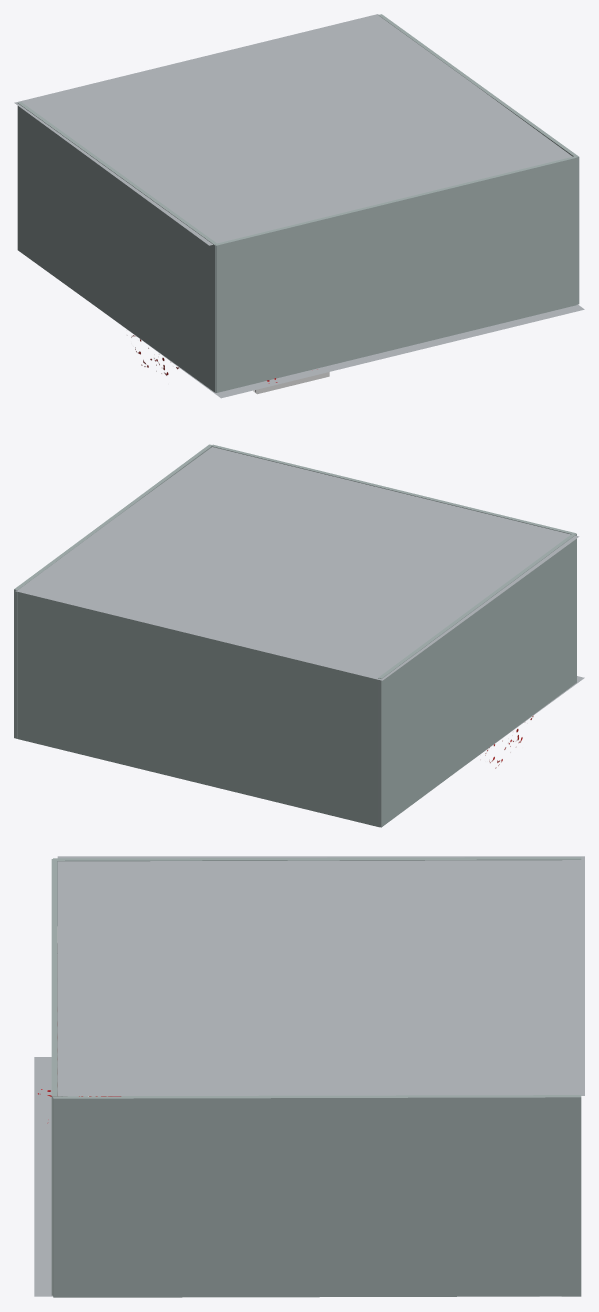
Rendered from NIVEL 3.glb.
3 renders of one model, top to bottom at view 1: azimuth 30°, elevation 25°; view 2: azimuth 150°, elevation 25°; view 3: azimuth 270°, elevation 25°, orthographic. The views are drawn at different scales.
Visible parts, largest first — view 1: Cube.003, Plane.001, Plane; view 2: Cube.003, Plane.001; view 3: Plane.001, Cube.003, Plane.
Part boxes in pixels (x1,y1,x2,y2): Cube.003: (17,14,579,392); Plane.001: (14,14,572,245); Plane: (112,304,584,398); Cube.003: (14,444,576,827); Plane.001: (15,447,579,680); Plane.001: (57,856,584,1095); Cube.003: (51,857,581,1297); Plane: (34,1057,561,1296).
Size of the model in its own units: 316 by 157 by 314.
Materials: 37 (24 with a texture image).
